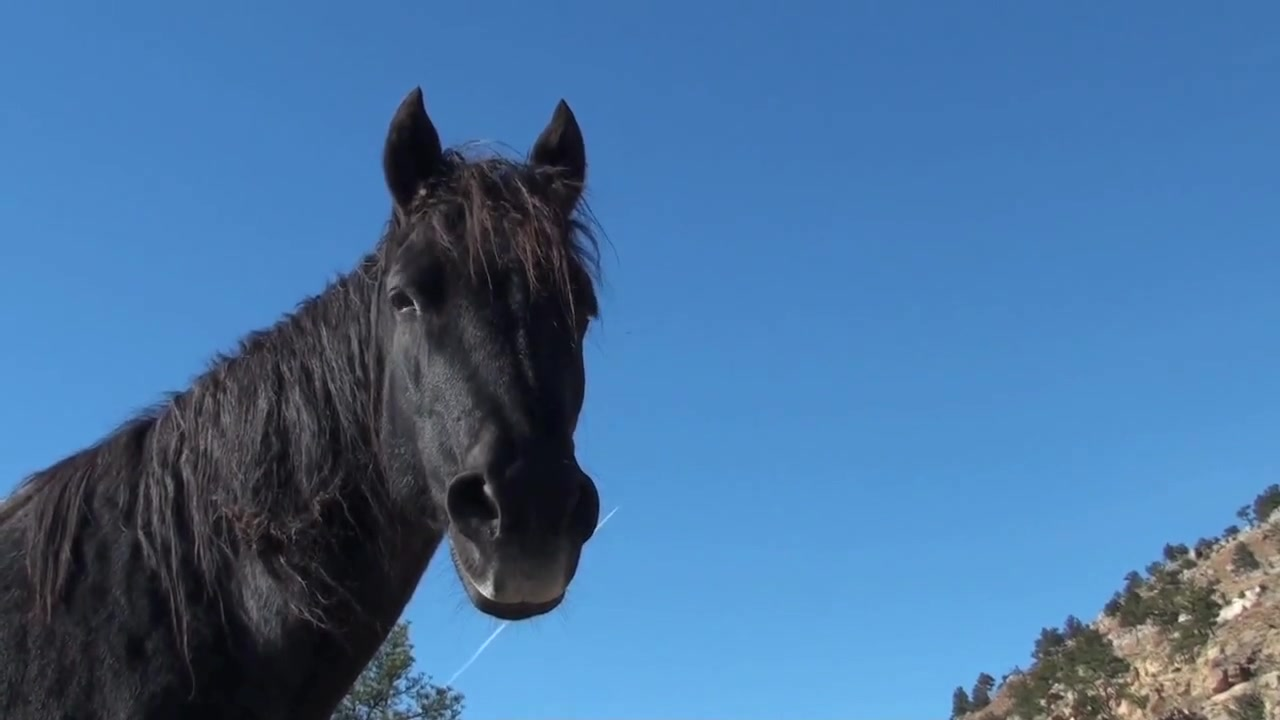horse: (1, 86, 633, 720)
